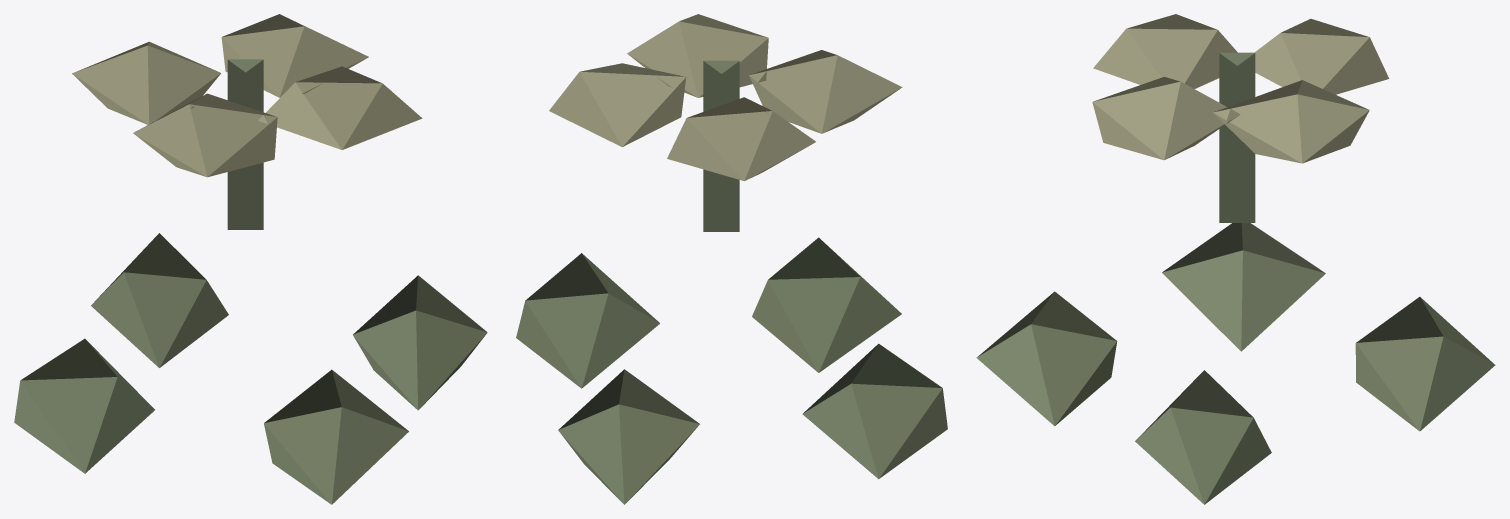
The model's file is shui.lian@subadult__winter.glb.
3 renders of one model, left to right at view 1: azimuth 30°, elevation 25°; view 2: azimuth 150°, elevation 25°; view 3: azimuth 270°, elevation 25°, orthographic.
Visible parts, largest first — view 1: shui.lian@subadult__winter; view 2: shui.lian@subadult__winter; view 3: shui.lian@subadult__winter.
Part boxes in pixels (<box>): shui.lian@subadult__winter: <box>14,14,487,504</box>; shui.lian@subadult__winter: <box>516,14,947,504</box>; shui.lian@subadult__winter: <box>976,14,1495,504</box>.
Bounding box in the file's own units: 0.5973 × 0.4879 × 0.6018.
